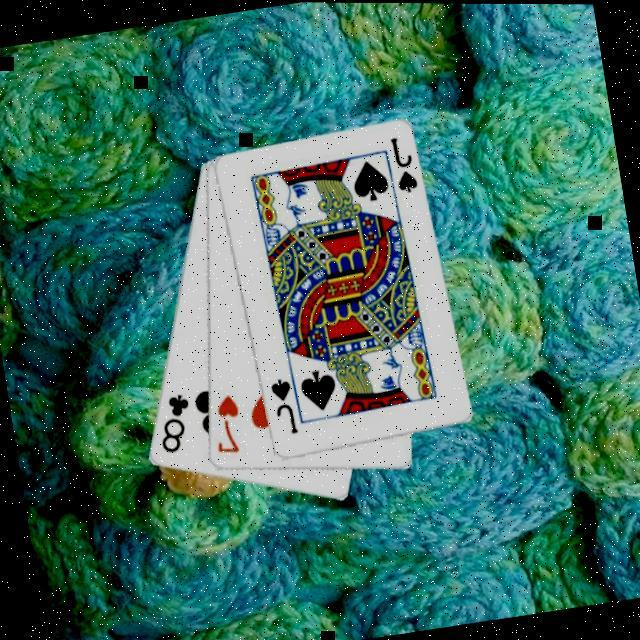7H: (208, 390, 250, 460)
8C: (152, 389, 202, 458)
JS: (268, 374, 302, 440), (388, 133, 422, 197)
